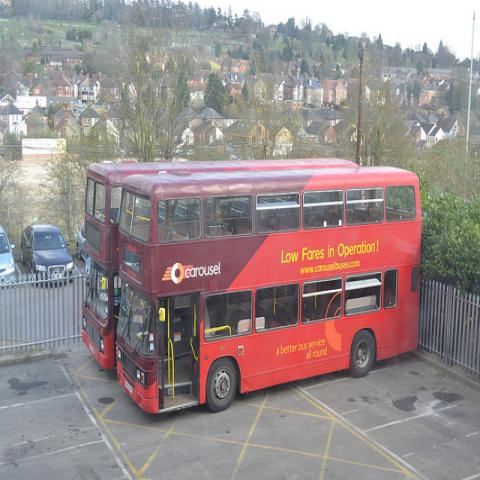bus: (115, 164, 421, 423), (82, 158, 360, 370)
car: (18, 223, 76, 274), (0, 227, 18, 288), (76, 223, 86, 261)
